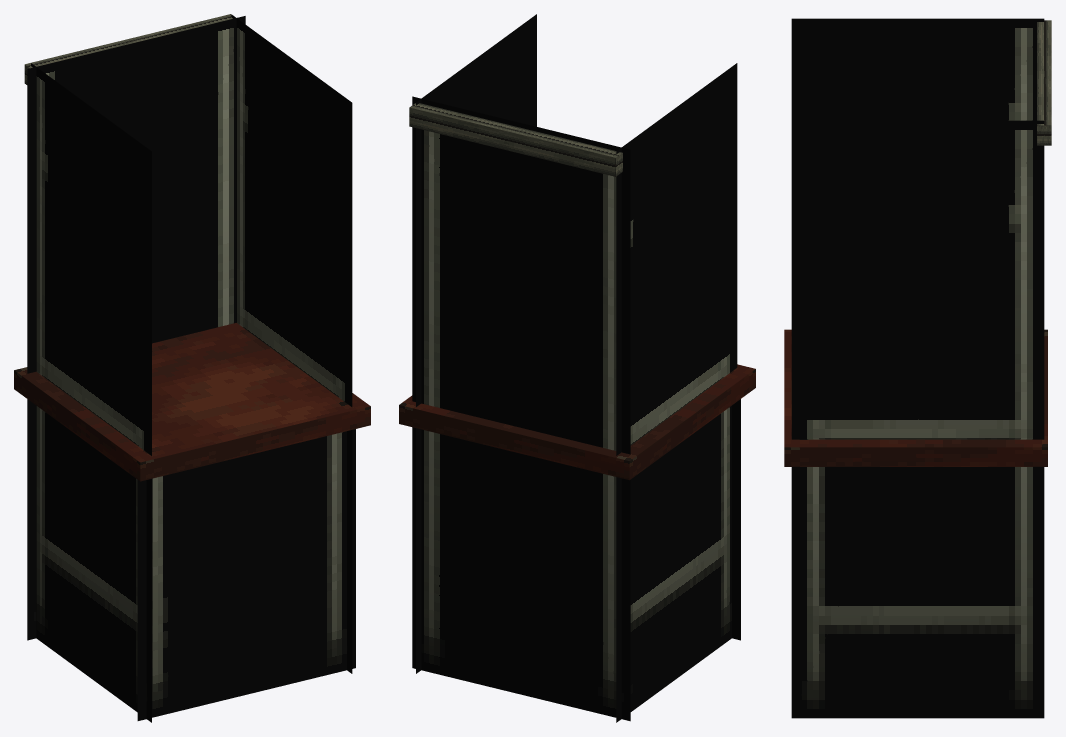
Rendered from prop_chair-5.glb.
The picture shows the model from 3 angles, left to right: view 1: azimuth 30°, elevation 25°; view 2: azimuth 150°, elevation 25°; view 3: azimuth 270°, elevation 25°; orthographic projection. The views are drawn at different scales.
Visible parts, largest first — view 1: prop_chair-5; view 2: prop_chair-5; view 3: prop_chair-5.
Boxes of the visible parts, x1,y1,x2,y2 form: prop_chair-5: (14,14,370,722); prop_chair-5: (399,14,755,722); prop_chair-5: (784,18,1051,718).
Bounding box in the file's own units: 0.3762 × 0.891 × 0.3613.
3 materials, 3 textured.
